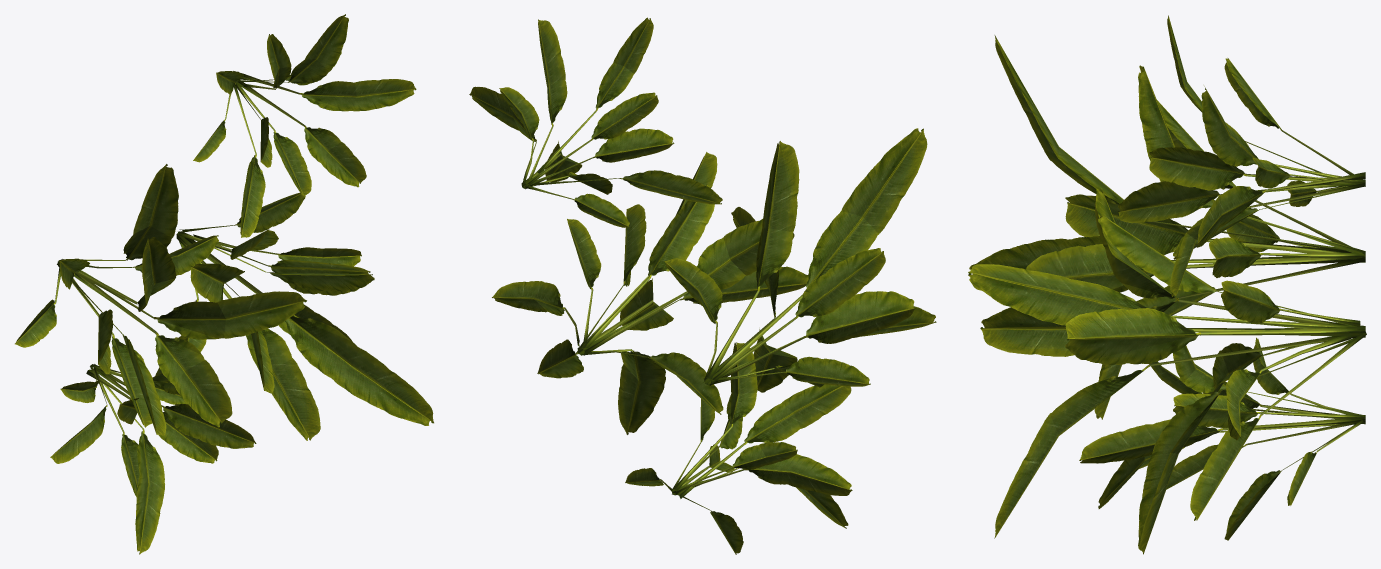
Rendered from huodong_fuben_234_zhiwu_01_01a.obj.
The picture shows the model from 3 angles, left to right: view 1: azimuth 30°, elevation 25°; view 2: azimuth 150°, elevation 25°; view 3: azimuth 270°, elevation 25°; orthographic projection. The views are drawn at different scales.
Visible parts, largest first — view 1: Wuge09_building_wuge_27, huodong_fuben_234_zhiwu_01_01, Wuge09_building_wuge_26; view 2: Wuge09_building_wuge_27, huodong_fuben_234_zhiwu_01_01, Wuge09_building_wuge_26; view 3: Wuge09_building_wuge_26, Wuge09_building_wuge_27, huodong_fuben_234_zhiwu_01_01.
Boxes of the visible parts, x1,y1,x2,y2 form: Wuge09_building_wuge_27: (50, 14, 416, 554); huodong_fuben_234_zhiwu_01_01: (15, 164, 306, 435); Wuge09_building_wuge_26: (176, 192, 433, 440); Wuge09_building_wuge_27: (469, 17, 852, 554); huodong_fuben_234_zhiwu_01_01: (664, 128, 936, 392); Wuge09_building_wuge_26: (492, 152, 808, 434); Wuge09_building_wuge_26: (968, 189, 1366, 554); Wuge09_building_wuge_27: (1079, 15, 1365, 540); huodong_fuben_234_zhiwu_01_01: (968, 35, 1365, 419).
Size of the model in its own units: 248 by 281 by 172.
1 material, 1 textured.
